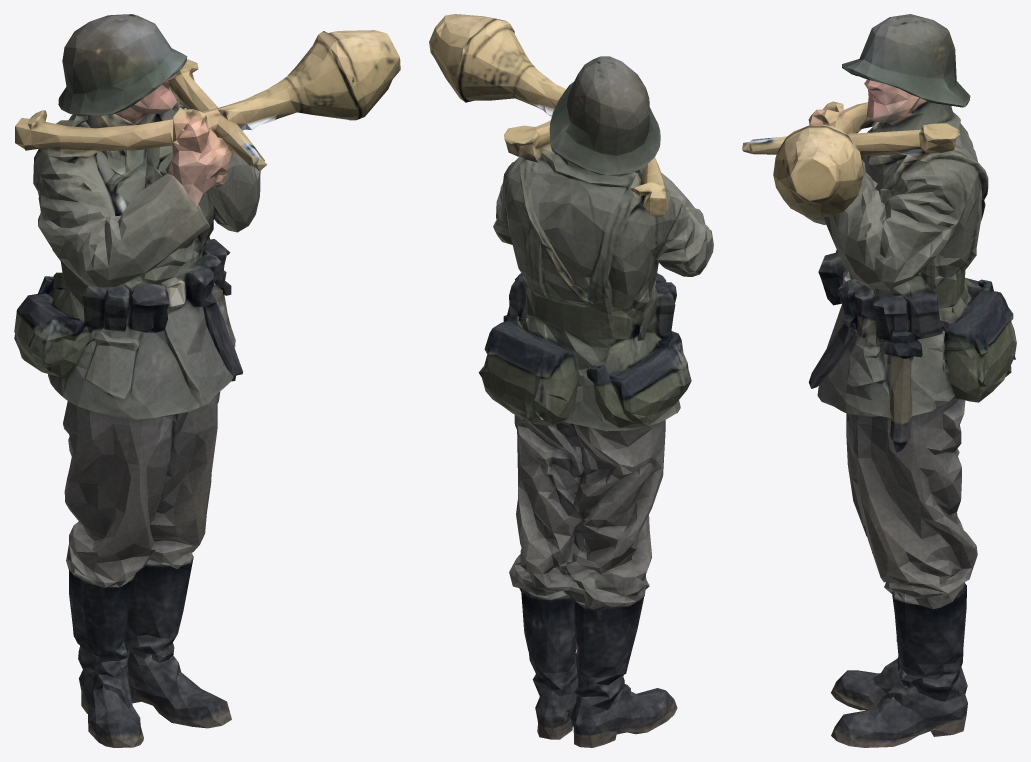
Rendered from soldier.obj.
3 views of the same model, side by side, from view 1: azimuth 30°, elevation 25°; view 2: azimuth 150°, elevation 25°; view 3: azimuth 270°, elevation 25° (orthographic). The views are drawn at different scales.
Parts seen in each view (by area): view 1: soldier; view 2: soldier; view 3: soldier.
Boxes of the visible parts, x1,y1,x2,y2 form: soldier: [14, 14, 400, 747]; soldier: [429, 14, 713, 747]; soldier: [742, 14, 1016, 747].
Bounding box in the file's own units: 0.8638 × 1.85 × 0.6638.
1 material, 1 textured.
